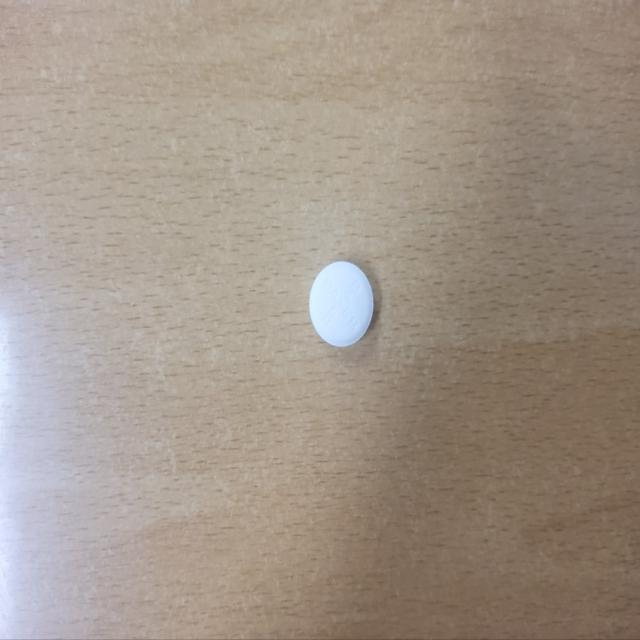-: (303, 242, 387, 357)
